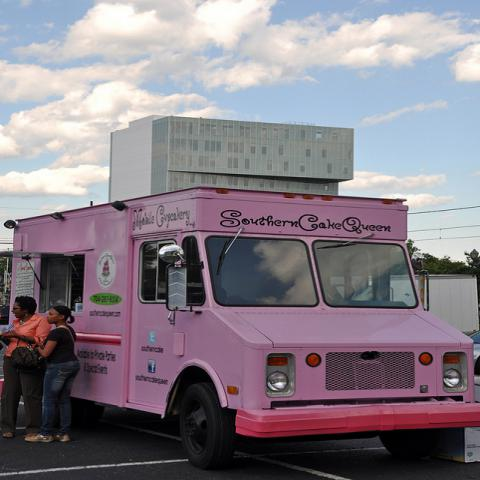truck: (4, 190, 479, 464)
